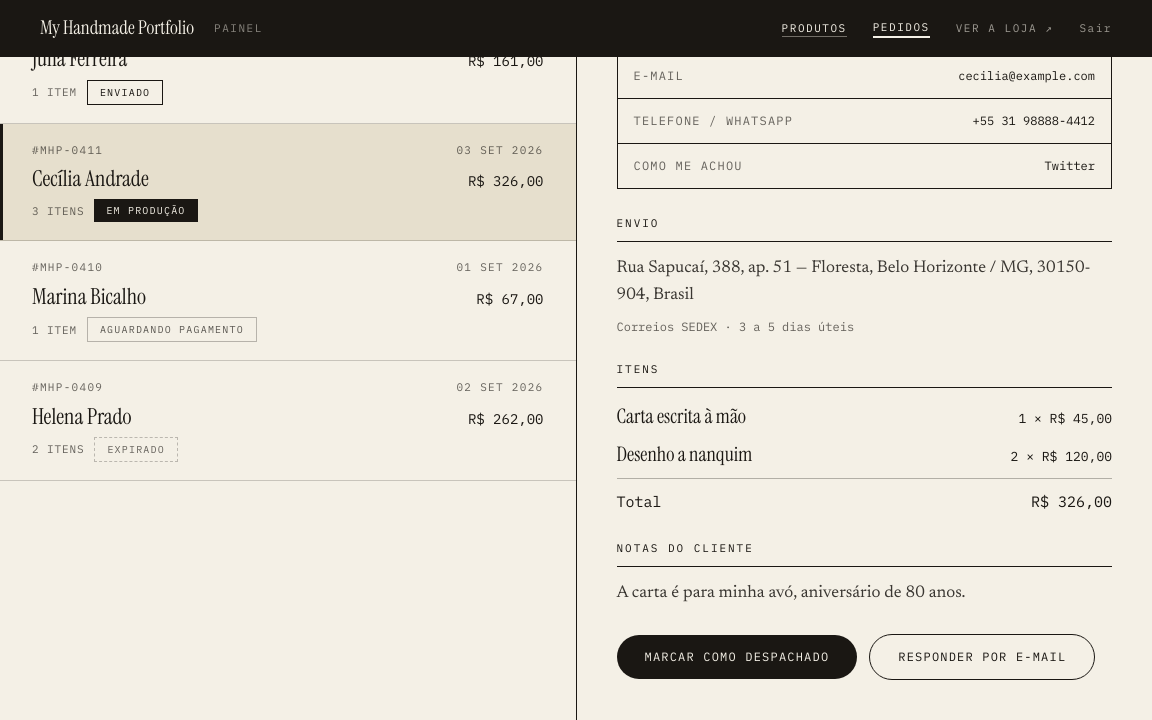
Scenario: OrdersRoute › keeps the form open when the order has already moved on
(page scrolled)
Step 1. Click the button "Marcar como despachado" → click(737, 657), box [616,635,857,679]
(page scrolled)
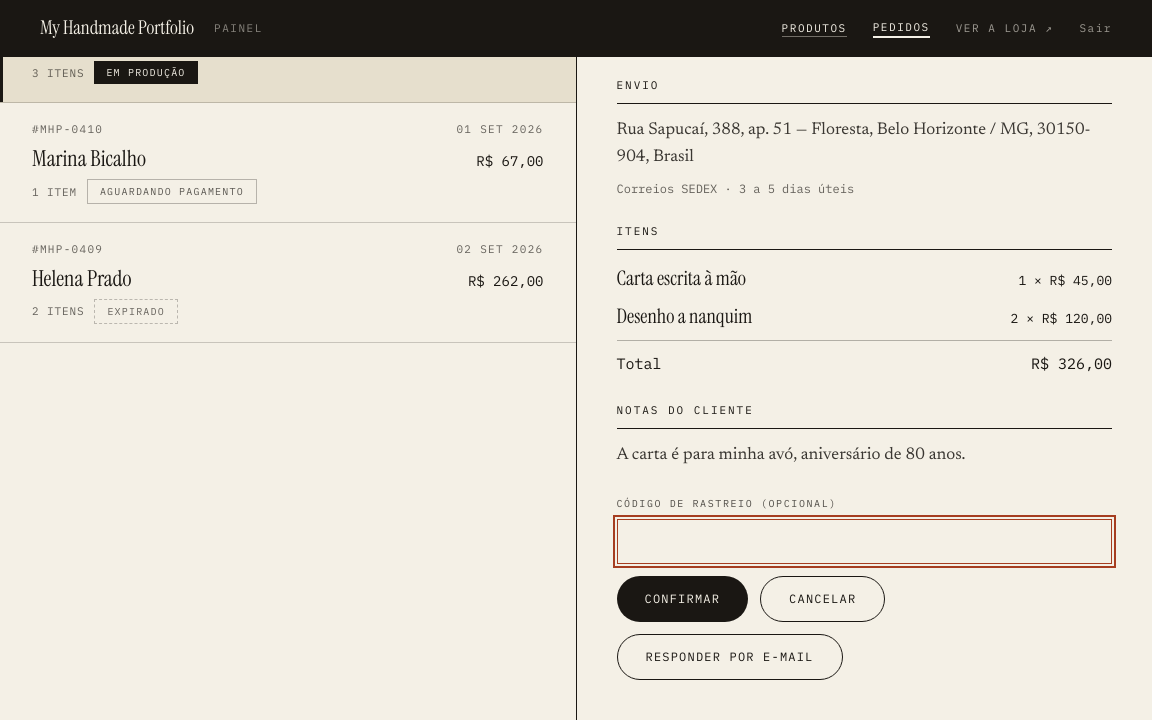
Step 2. Click the button "Confirmar" → click(682, 599), box [616,576,748,622]
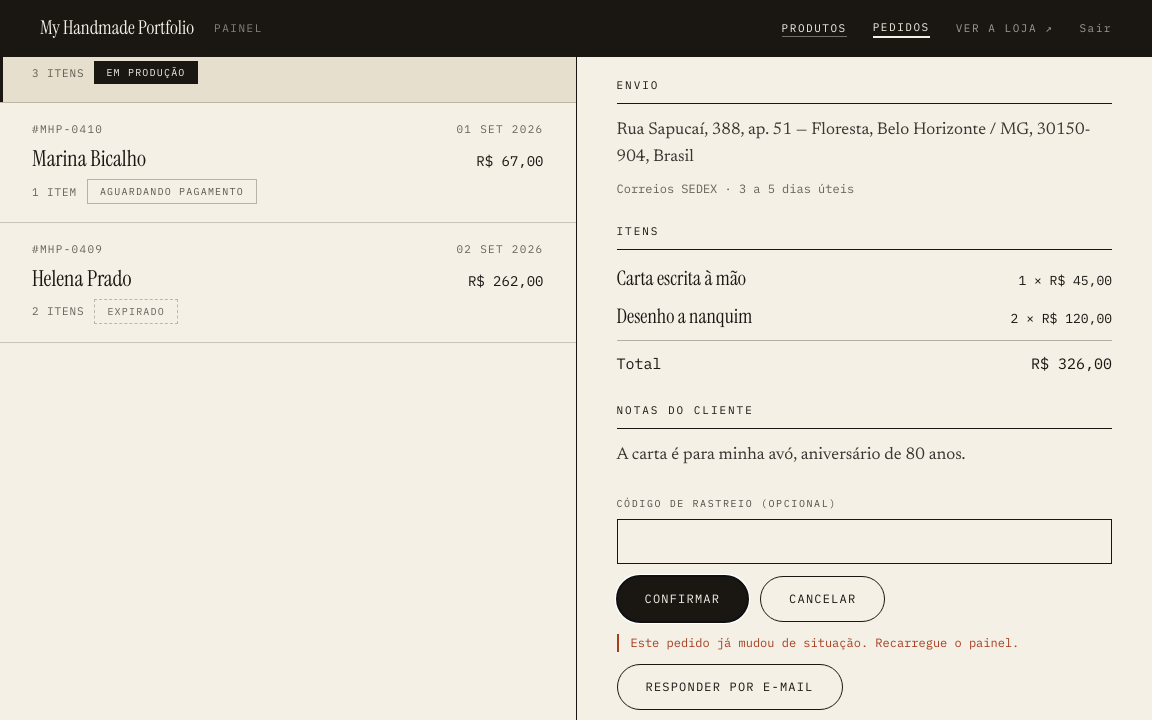
Expected: the field labelled "Código de rastreio (opcional)" is shown, [616,519,1112,564]
Expected: the message shows "Este pedido já mudou de situação.", [630,635,1019,650]
